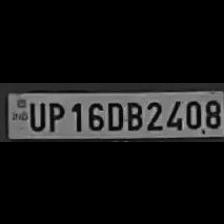0: (182, 97, 202, 129)
1: (66, 99, 84, 131)
2: (143, 98, 161, 132)
4: (163, 97, 181, 130)
6: (84, 99, 104, 131)
8: (202, 96, 220, 128)
B: (124, 98, 142, 132)
D: (104, 98, 122, 130)
P: (44, 99, 66, 131)
U: (26, 99, 44, 131)
